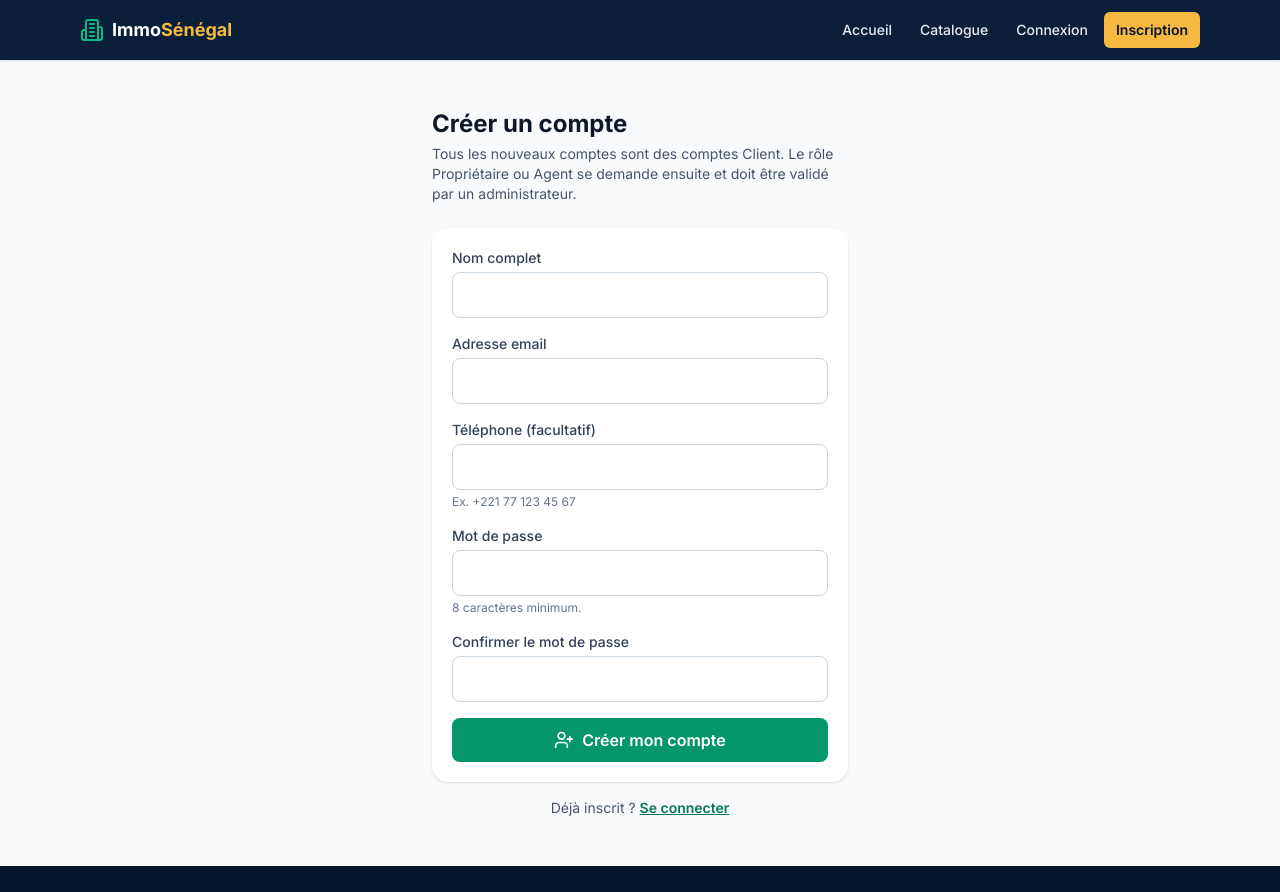
Scenario: Inscription › refuse sans appeler le serveur quand les mots de passe diffèrent
Type "Khady Test" into the field labelled "Nom complet" at (640, 295), box [452, 272, 828, 318]
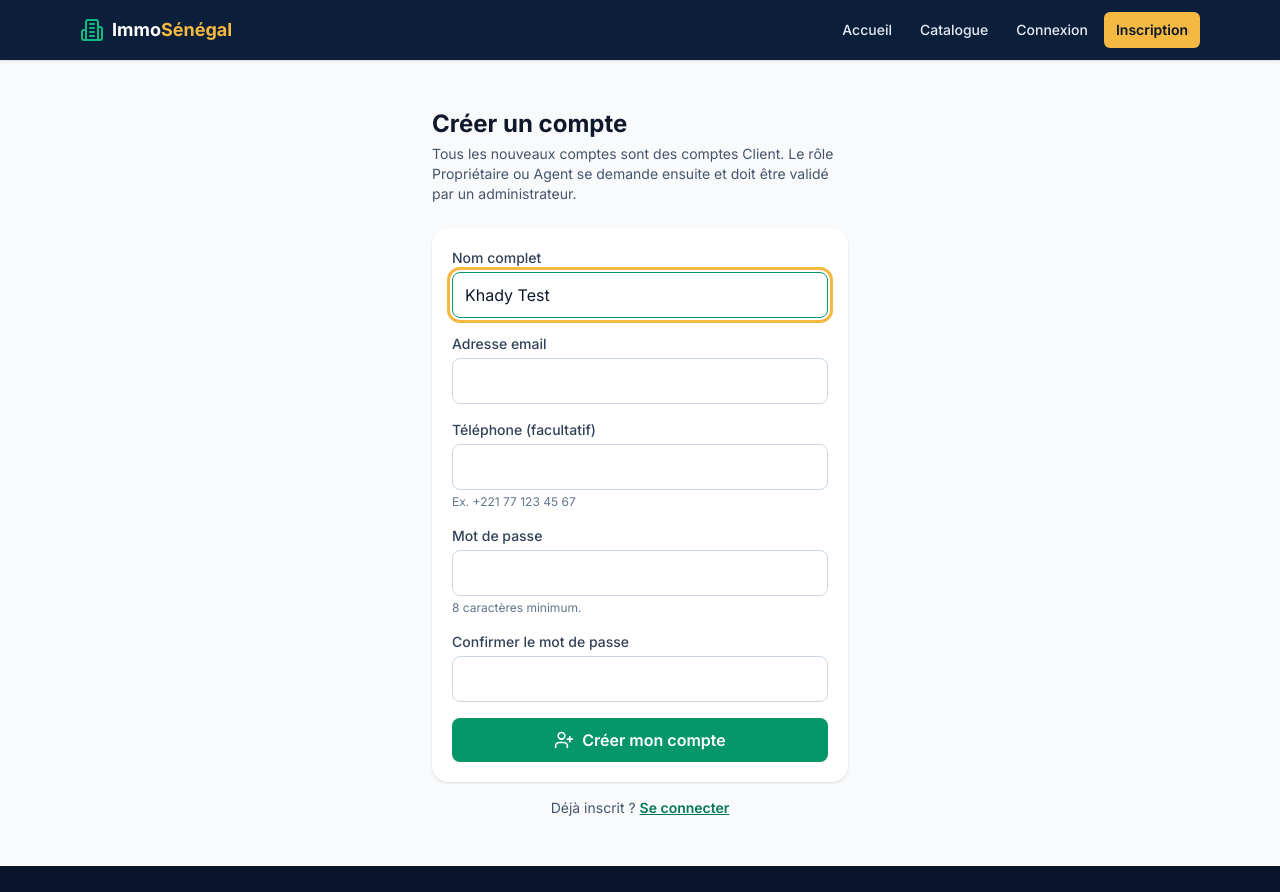
Type "khady@example.test" into the field labelled "Adresse email" at (640, 381), box [452, 358, 828, 404]
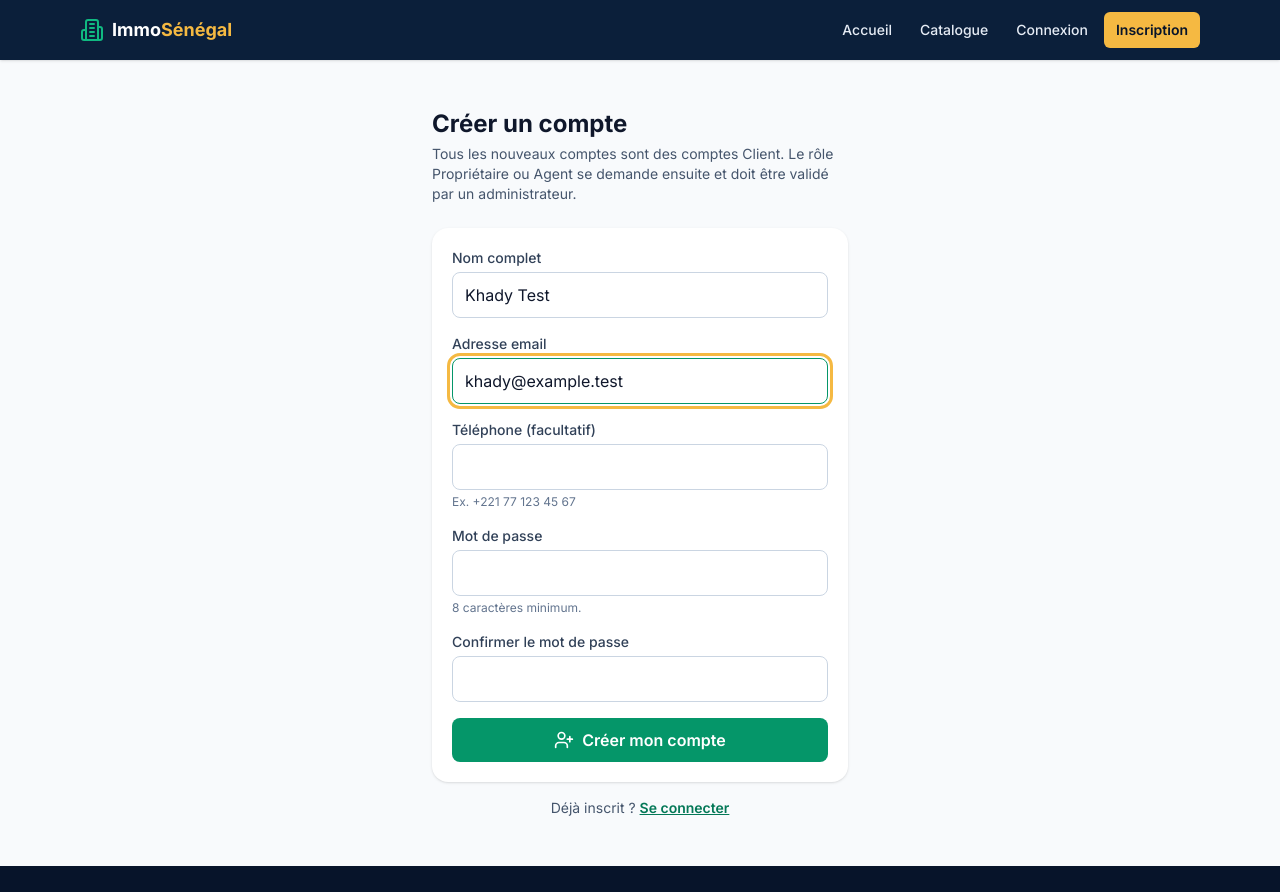
Type "MotDePasse-Solide-123" into the password field labelled "Mot de passe" at (640, 573), box [452, 550, 828, 596]
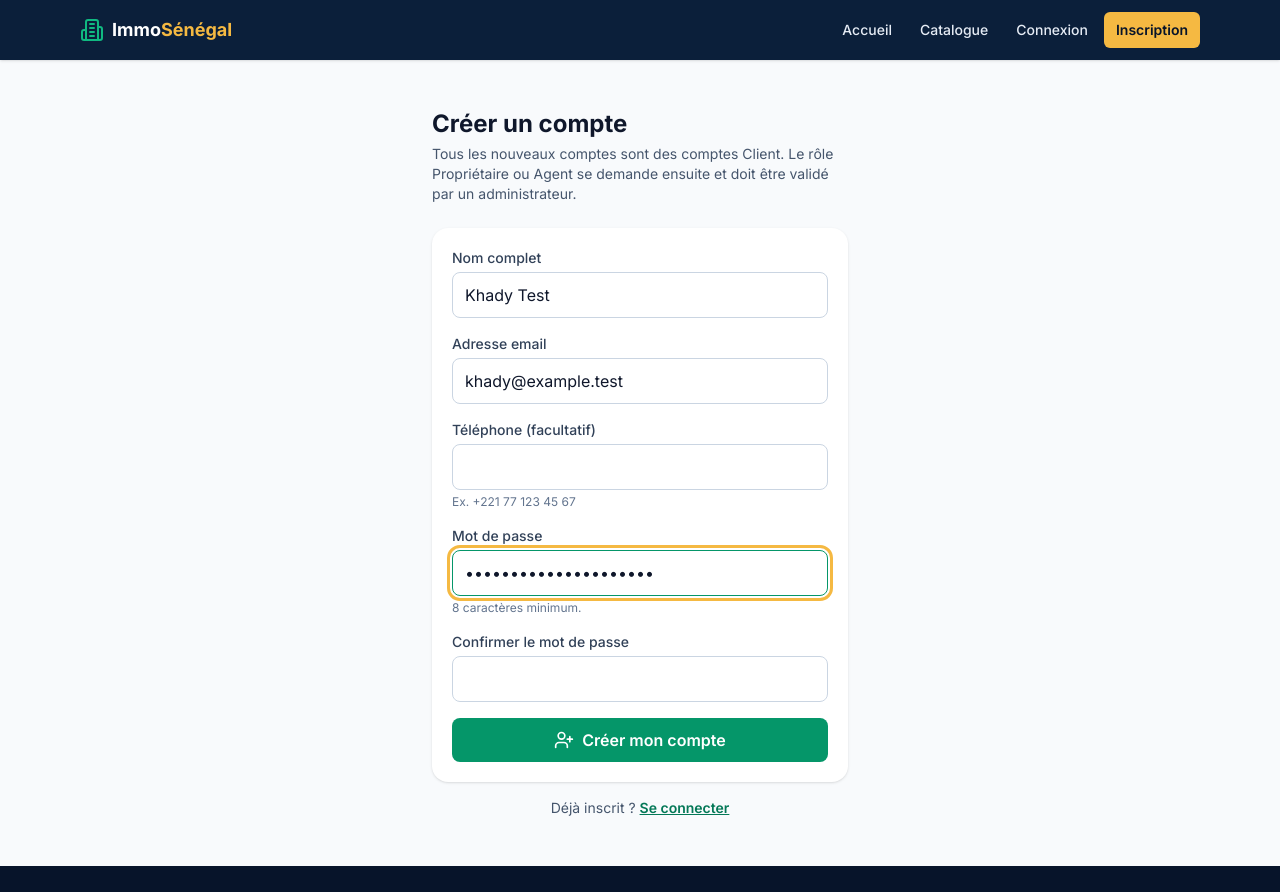
Type "Autre-Mot-De-Passe-1" into the password field labelled "Confirmer le mot de passe" at (640, 679), box [452, 656, 828, 702]
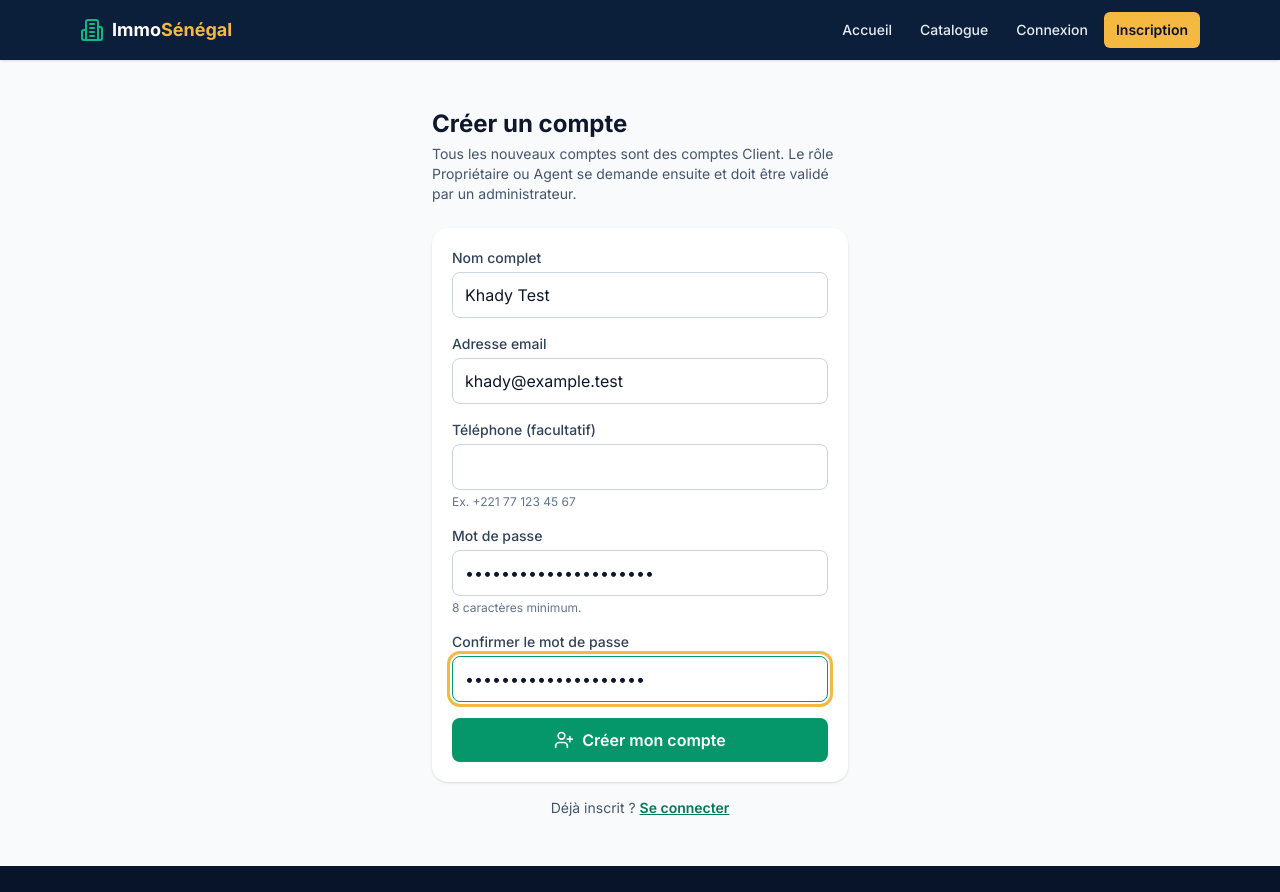
Click the button "Créer mon compte" at (640, 740), box [452, 718, 828, 762]
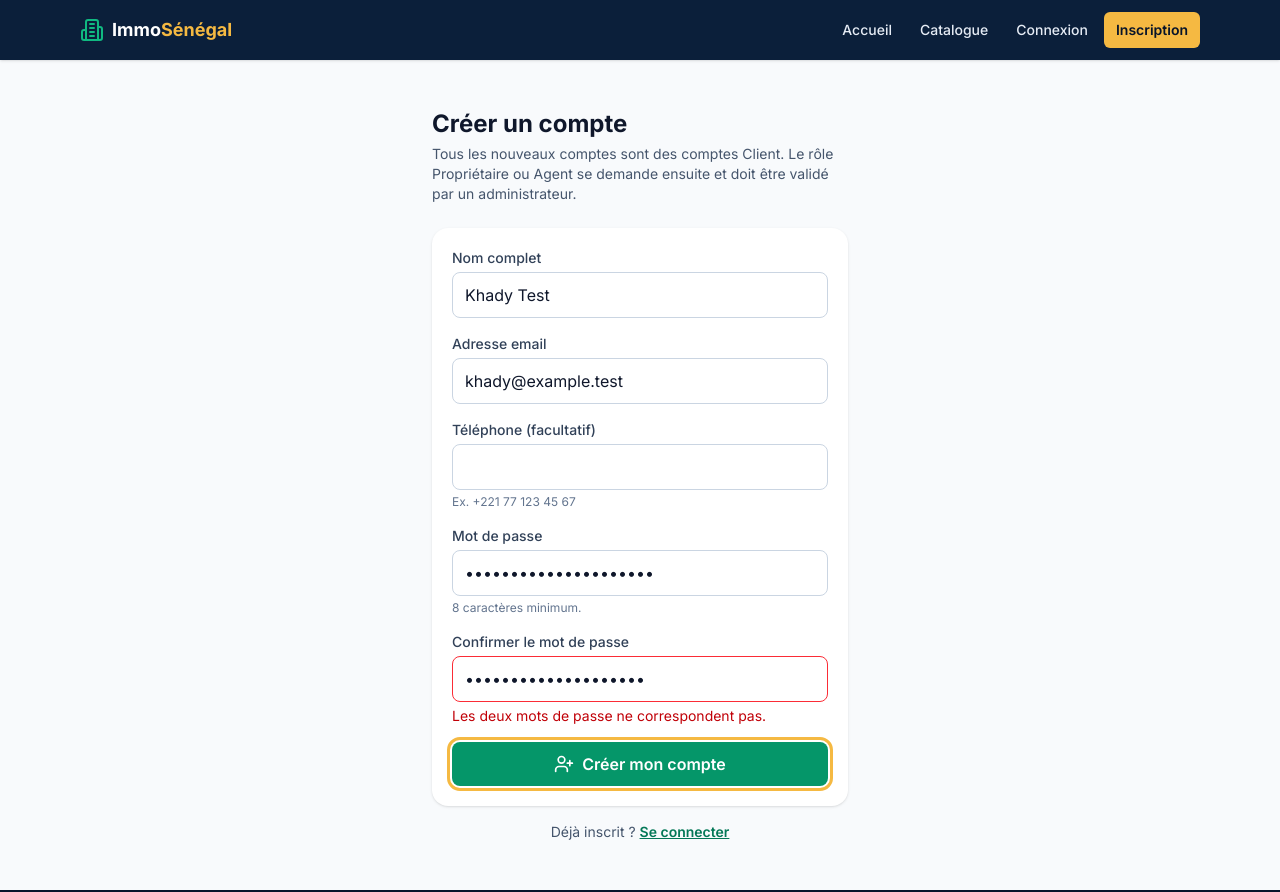
expect the text "Les deux mots de passe ne correspondent pas." is shown: met, box [452, 707, 766, 724]
